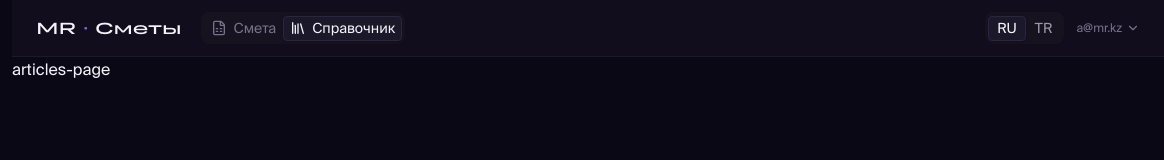
Test: AppShell › бренд — ссылка на /estimates
Click the link "MR · Сметы" at (109, 28), box [36,16,182,40]
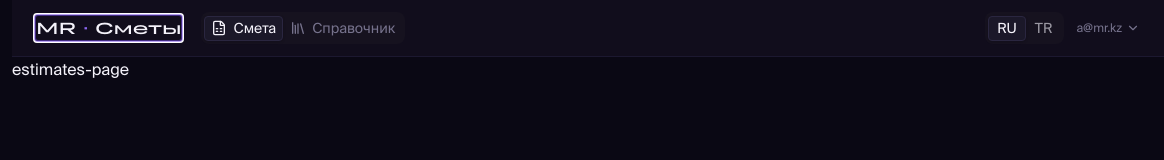
Now the text "estimates-page" is shown, box [12,60,129,78]
